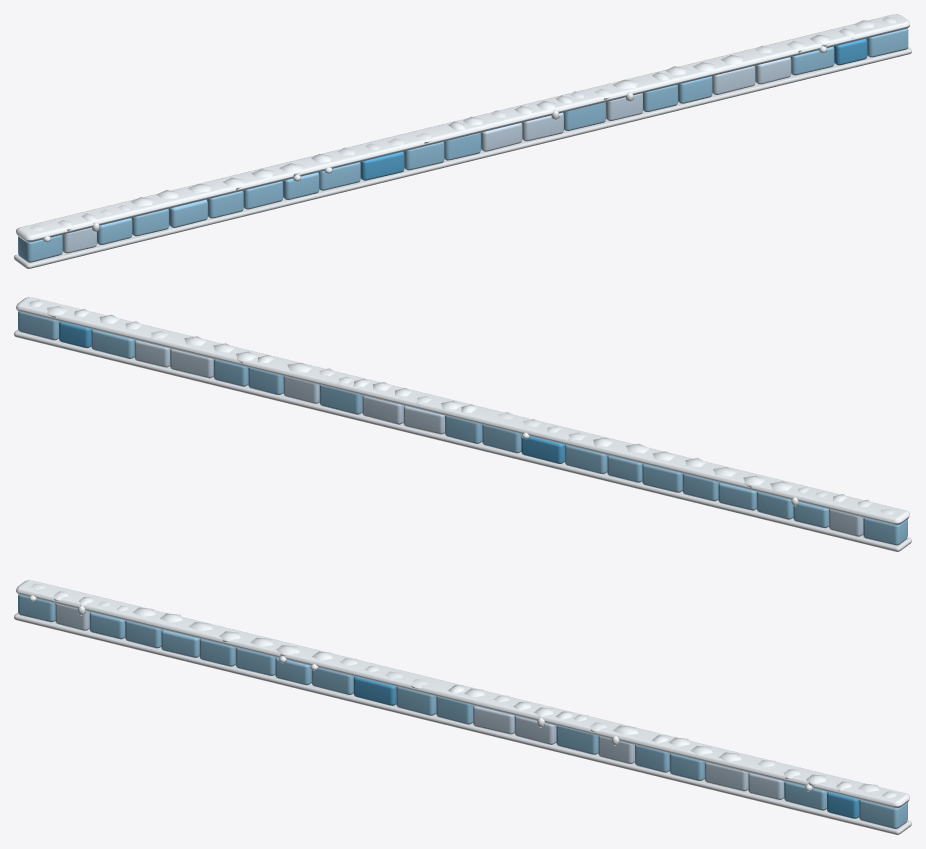
The model's file is PlotWallLong.fbx.
3 views of the same model, one above another, from view 1: azimuth 30°, elevation 25°; view 2: azimuth 150°, elevation 25°; view 3: azimuth 330°, elevation 25° (orthographic).
Visible parts, largest first — view 1: PlotWallLongIce, PlotWallLongSnow, PlotWallLongTrim; view 2: PlotWallLongIce, PlotWallLongSnow, PlotWallLongTrim; view 3: PlotWallLongIce, PlotWallLongSnow, PlotWallLongTrim.
Boxes of the visible parts, x1=… form: PlotWallLongIce: x1=18, y1=28, x2=908, y2=262; PlotWallLongSnow: x1=16, y1=14, x2=909, y2=242; PlotWallLongTrim: x1=14, y1=47, x2=911, y2=268; PlotWallLongIce: x1=18, y1=311, x2=907, y2=545; PlotWallLongSnow: x1=16, y1=297, x2=909, y2=525; PlotWallLongTrim: x1=14, y1=330, x2=911, y2=551; PlotWallLongIce: x1=18, y1=594, x2=907, y2=828; PlotWallLongSnow: x1=16, y1=580, x2=909, y2=808; PlotWallLongTrim: x1=14, y1=613, x2=911, y2=834.
Size of the model in its own units: 1004 by 37.82 by 35.16.
